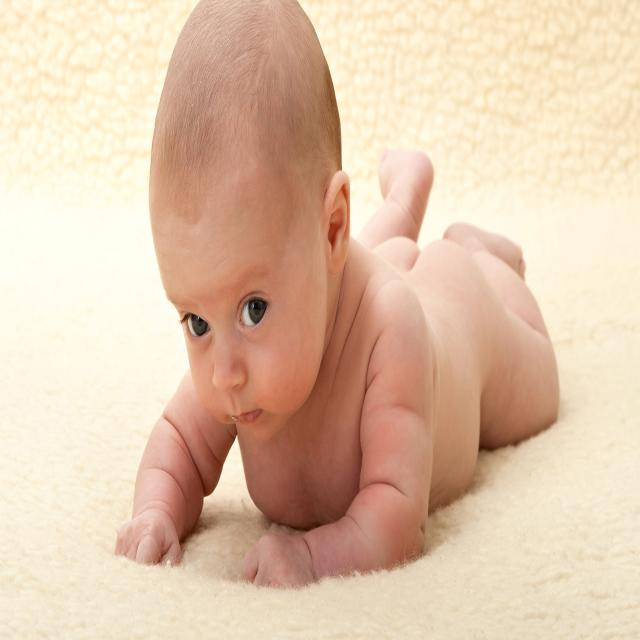child: (107, 2, 565, 585)
